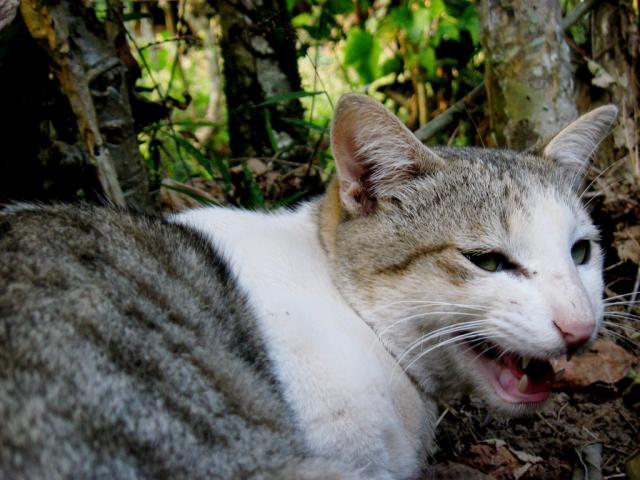Cat: (0, 92, 640, 480)
